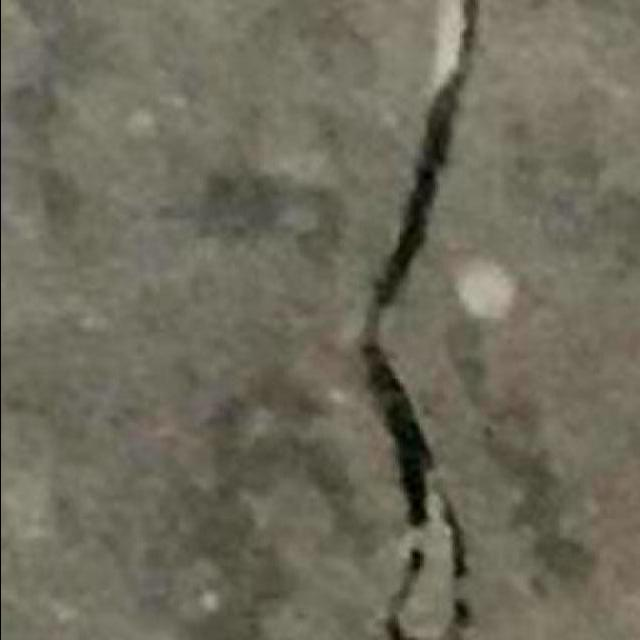SurfaceCrack: (300, 0, 532, 640)
